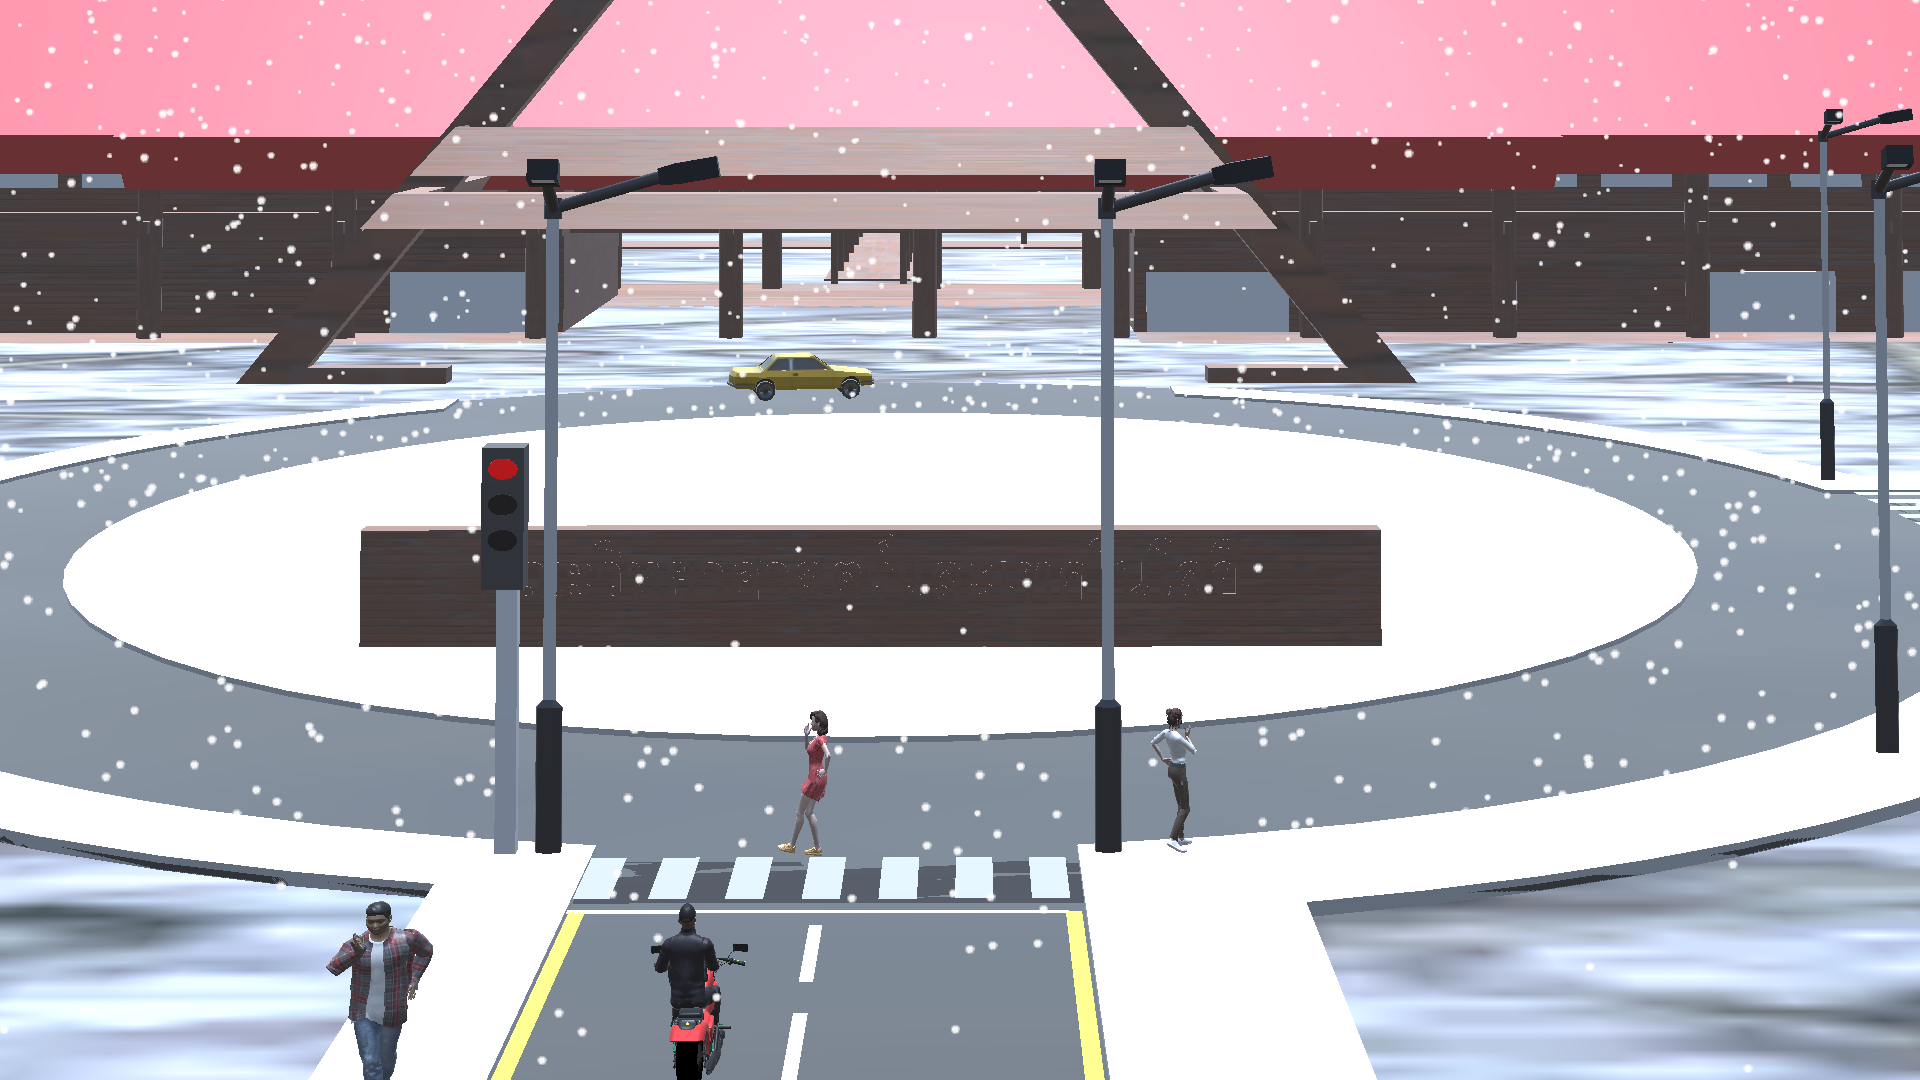pedestrian: (327, 898, 434, 1080), (774, 708, 839, 858), (1148, 707, 1208, 864)
